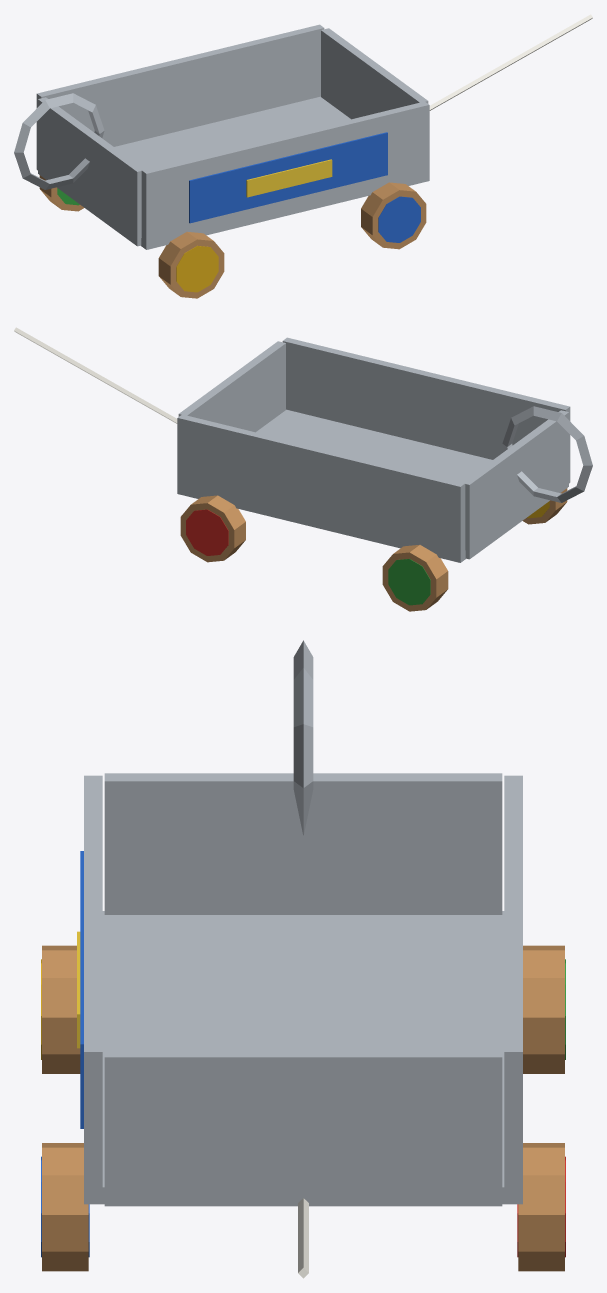
Rendered from stashBasket.fbx.
3 views of the same model, one above another, from view 1: azimuth 30°, elevation 25°; view 2: azimuth 150°, elevation 25°; view 3: azimuth 270°, elevation 25° (orthographic). The views are drawn at different scales.
Parts seen in each view (by area): view 1: stashBasket; view 2: stashBasket; view 3: stashBasket.
Part boxes in pixels (x1,y1,x2,y2): stashBasket: (14,14,592,298); stashBasket: (14,327,592,611); stashBasket: (41,640,565,1278).
Bounding box in the file's own units: 5.72 × 1.63 × 2.25.
